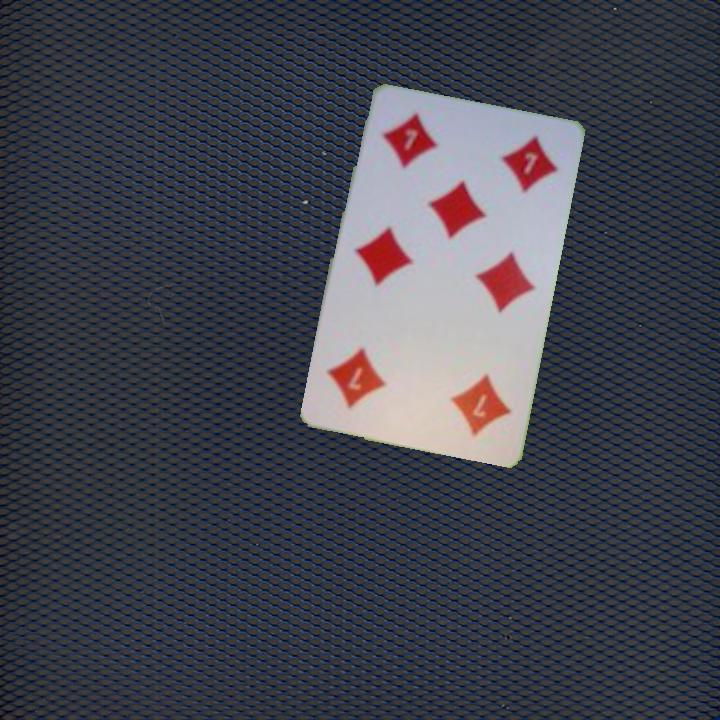d_7.png: (361, 98, 475, 201), (409, 348, 522, 451)
